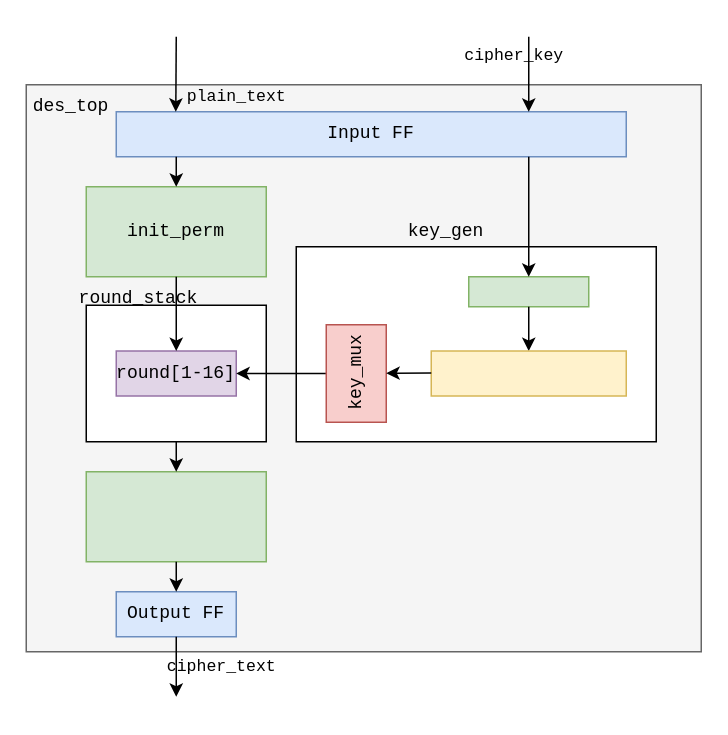
Some shapes in this 728 by 735 pixel diagram are drawn without their labels. The shapes that lost their labels are listed below. From the top down, each one's centre as x and y in pixels, then its label:
the point at 528,291: p_box_64_56
the point at 528,373: round_key_gen[1-16]
the point at 175,516: final_perm
